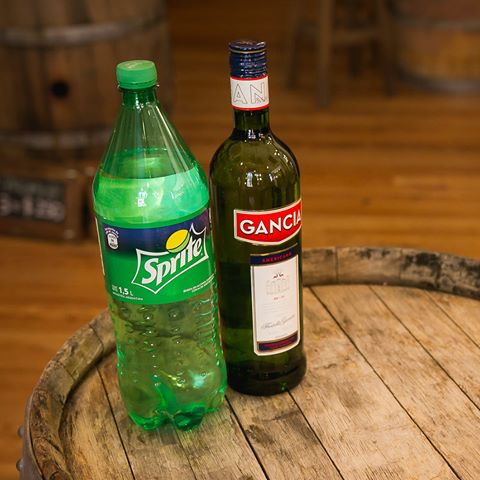sprite: (141, 233, 201, 286)
